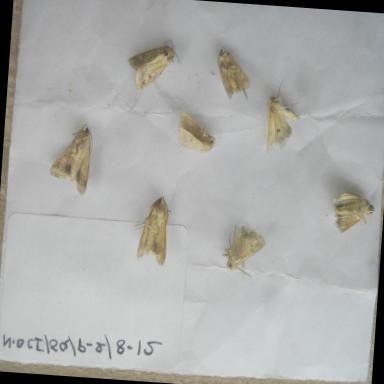abw: (42, 116, 104, 198), (258, 70, 306, 159), (122, 31, 186, 96), (126, 191, 176, 274), (216, 215, 272, 284), (209, 38, 258, 108), (326, 178, 378, 242), (168, 102, 222, 160)
